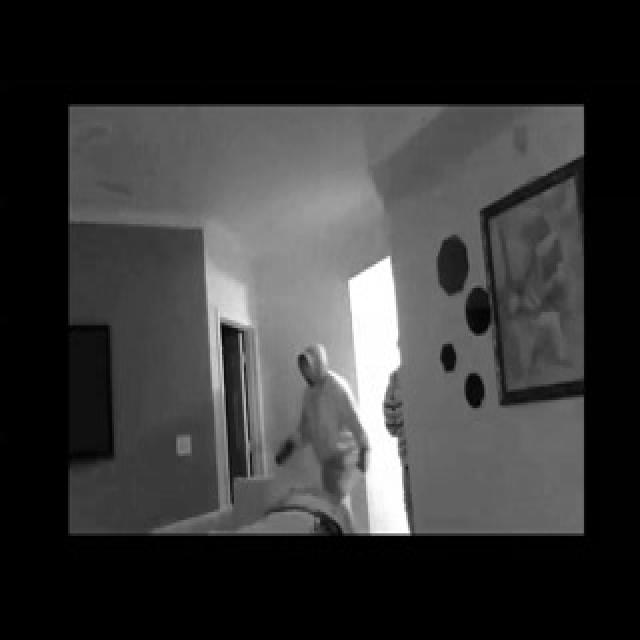thief: (282, 338, 348, 411)
